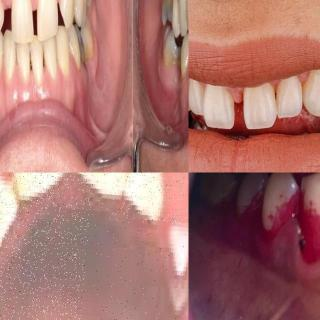Gum Swelling: (257, 218, 320, 277)
maligned: (9, 172, 79, 200), (75, 172, 134, 195)
